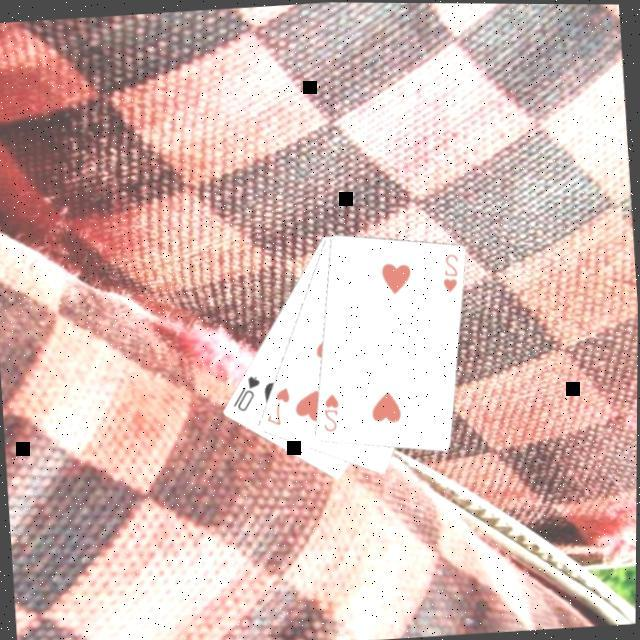10S: (226, 369, 263, 412)
2H: (316, 387, 342, 432), (436, 248, 462, 293)
7H: (261, 381, 294, 427)
